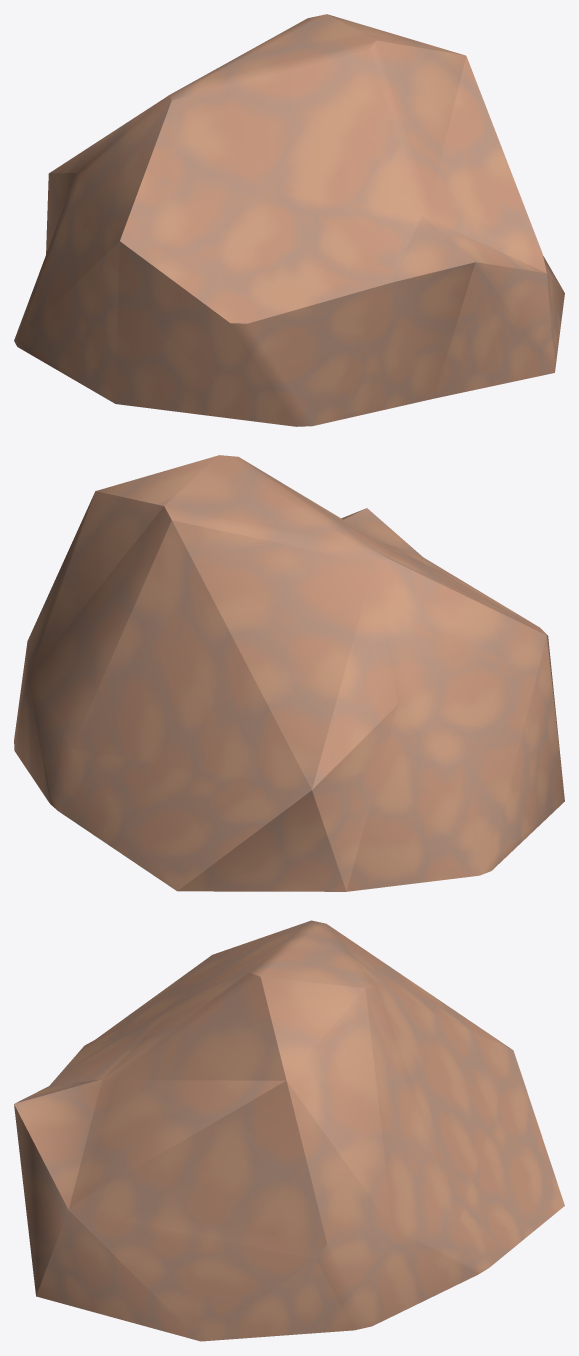
File: ShinyStone.fbx
3 renders of one model, top to bottom at view 1: azimuth 30°, elevation 25°; view 2: azimuth 150°, elevation 25°; view 3: azimuth 270°, elevation 25°, orthographic. The views are drawn at different scales.
Visible parts, largest first — view 1: Rock; view 2: Rock; view 3: Rock.
Part boxes in pixels (x1=…): Rock: x1=14, y1=14, x2=564, y2=426; Rock: x1=14, y1=455, x2=564, y2=891; Rock: x1=14, y1=920, x2=564, y2=1341.
Size of the model in its own units: 0.8492 by 0.4727 by 0.8331.
Materials: 2 (2 with a texture image).
